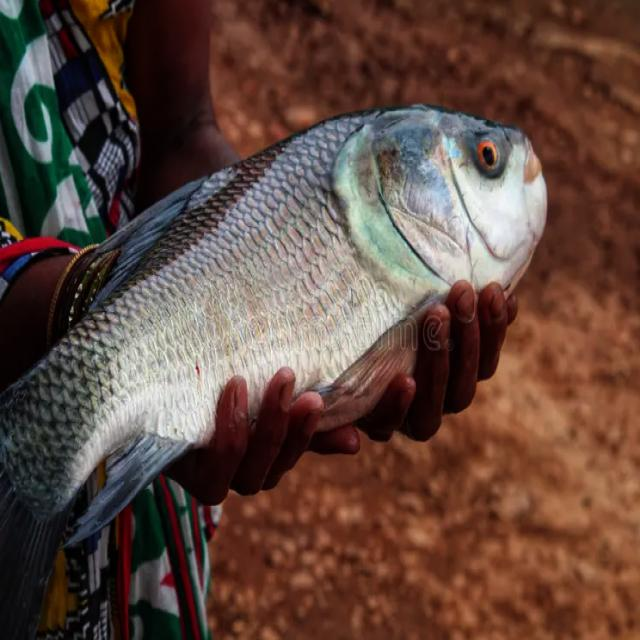Catla: (0, 106, 550, 640)
